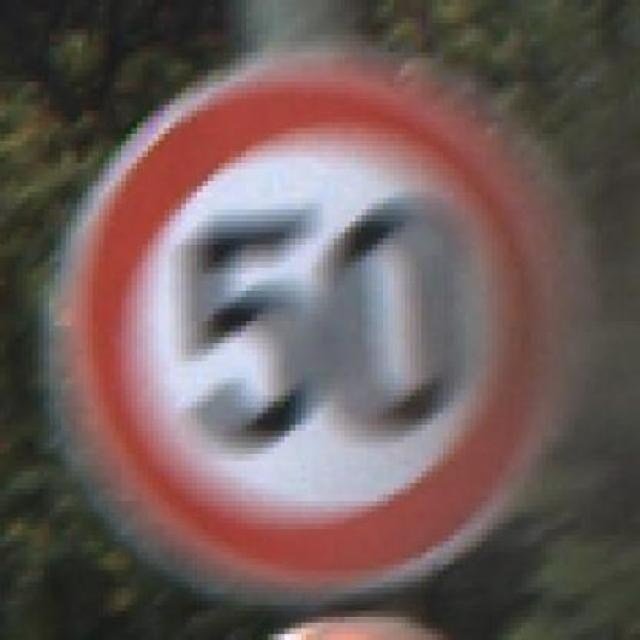Speed limit 50: (47, 47, 570, 609)
